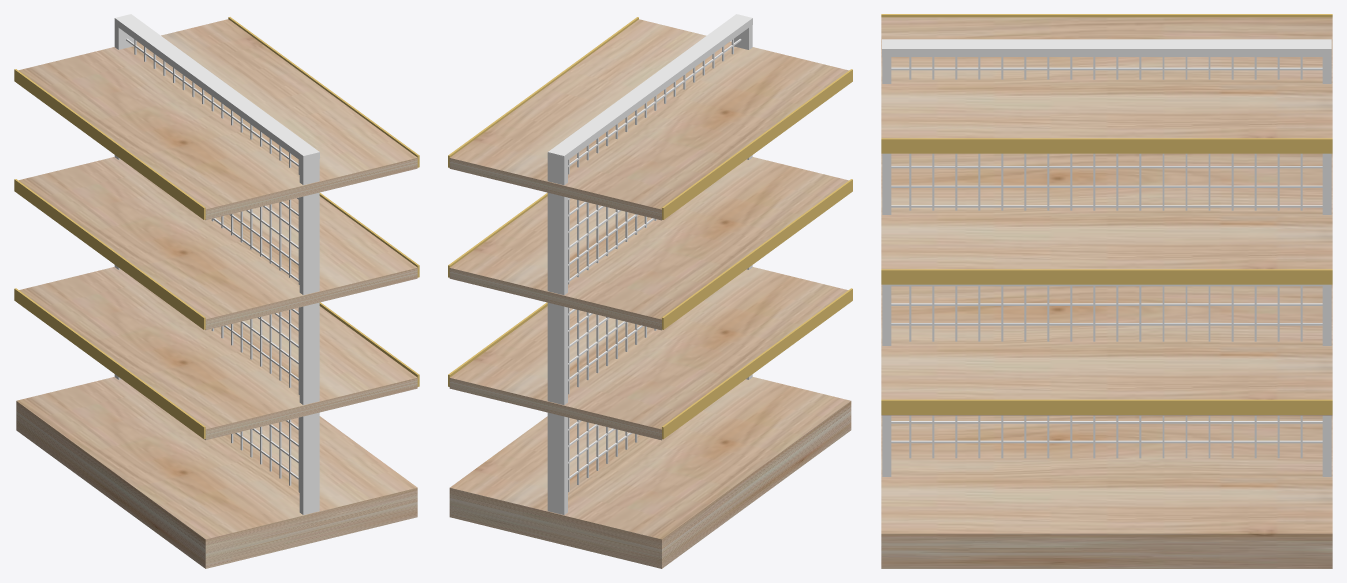
File: stand_model.fbx
The picture shows the model from 3 angles, left to right: view 1: azimuth 30°, elevation 25°; view 2: azimuth 150°, elevation 25°; view 3: azimuth 270°, elevation 25°; orthographic projection. The views are drawn at different scales.
Visible parts, largest first — view 1: Cube, Cube.001, cube, cube003, cube001, cube002, Cube.002; view 2: Cube, Cube.001, cube, cube003, cube001, cube002, Cube.002; view 3: Cube, Cube.002, cube002, cube001, cube003, cube, Cube.001.
Boxes of the visible parts, x1,y1,x2,y2 form: Cube: [16, 19, 417, 568]; Cube.001: [14, 69, 205, 438]; cube: [114, 18, 319, 514]; cube003: [115, 14, 319, 162]; cube001: [134, 39, 299, 492]; cube002: [126, 38, 298, 479]; Cube.002: [228, 17, 419, 386]; Cube: [449, 19, 851, 568]; Cube.001: [662, 69, 852, 439]; cube: [547, 19, 752, 514]; cube003: [548, 14, 752, 160]; cube001: [568, 39, 733, 492]; cube002: [568, 39, 741, 479]; Cube.002: [448, 17, 638, 386]; Cube: [881, 17, 1332, 568]; Cube.002: [881, 138, 1332, 414]; cube002: [891, 67, 1322, 443]; cube001: [909, 57, 1302, 458]; cube003: [882, 39, 1331, 56]; cube: [882, 49, 1331, 476]; Cube.001: [881, 14, 1332, 17].
Size of the model in its own units: 131 by 226 by 200.
